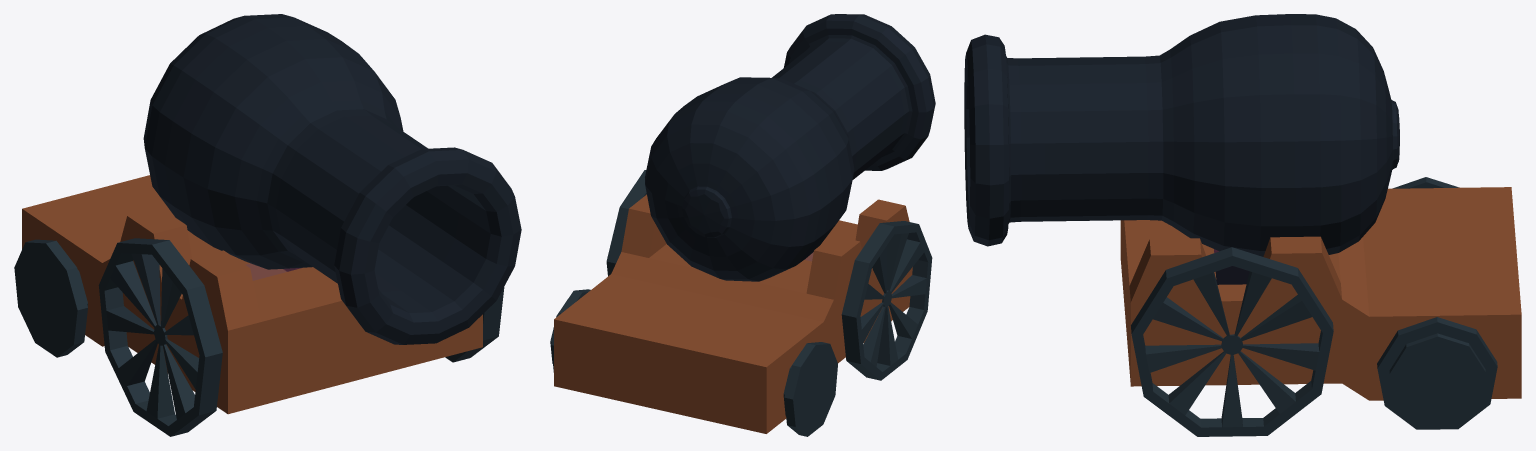
Rendered from pushka.glb.
3 views of the same model, side by side, from view 1: azimuth 30°, elevation 25°; view 2: azimuth 150°, elevation 25°; view 3: azimuth 270°, elevation 25° (orthographic). The views are drawn at different scales.
Visible parts, largest first — view 1: пушка; view 2: пушка; view 3: пушка.
Boxes of the visible parts, box(x1,y1,x2,y2) form: пушка: box(14, 14, 521, 436); пушка: box(550, 14, 935, 436); пушка: box(964, 14, 1521, 436).
Bounding box in the file's own units: 0.7106 × 0.7209 × 1.09.
Materials: 1 (1 with a texture image).
